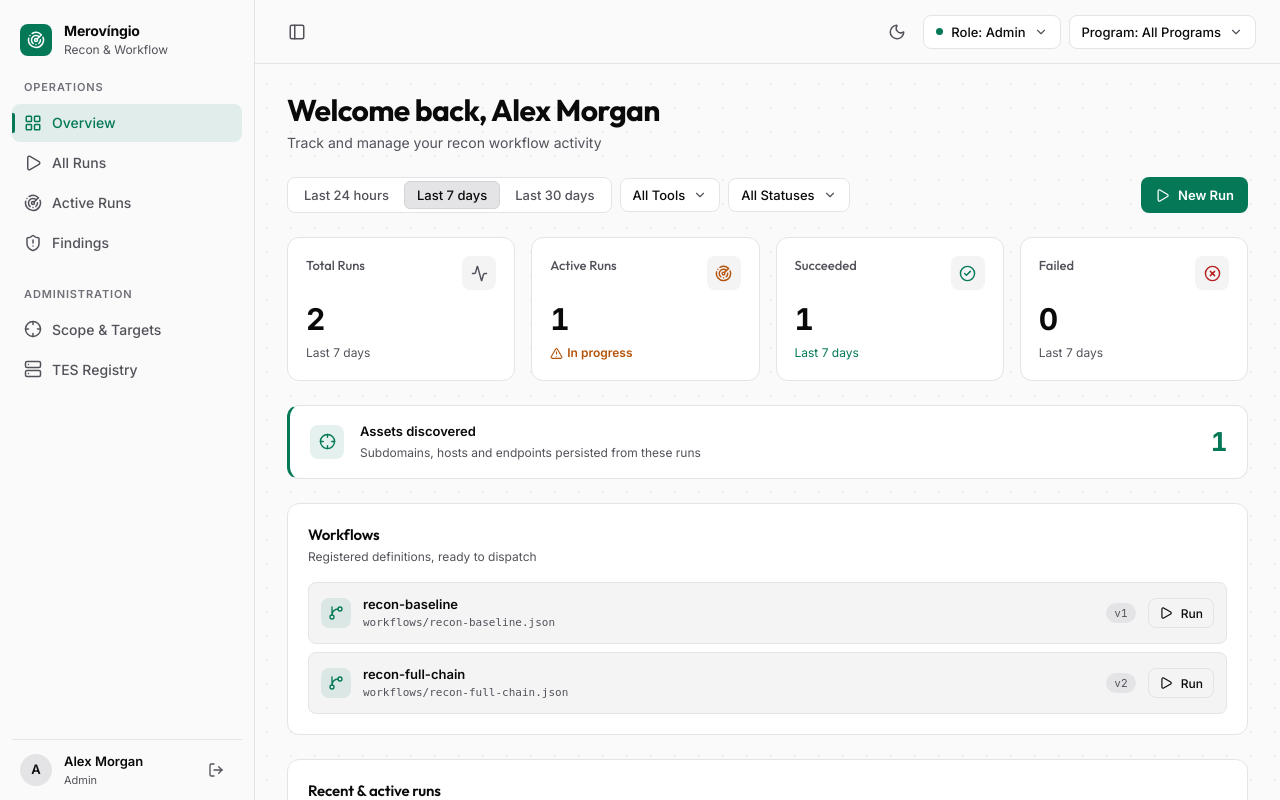
Test: authentication gate › signs out back to the login screen
The image size is (1280, 800).
Expected: the navigation bar named "main navigation" is shown, [0,0,255,799]
Click the button named "log out": coordinates (216, 770) [198,752,234,788]
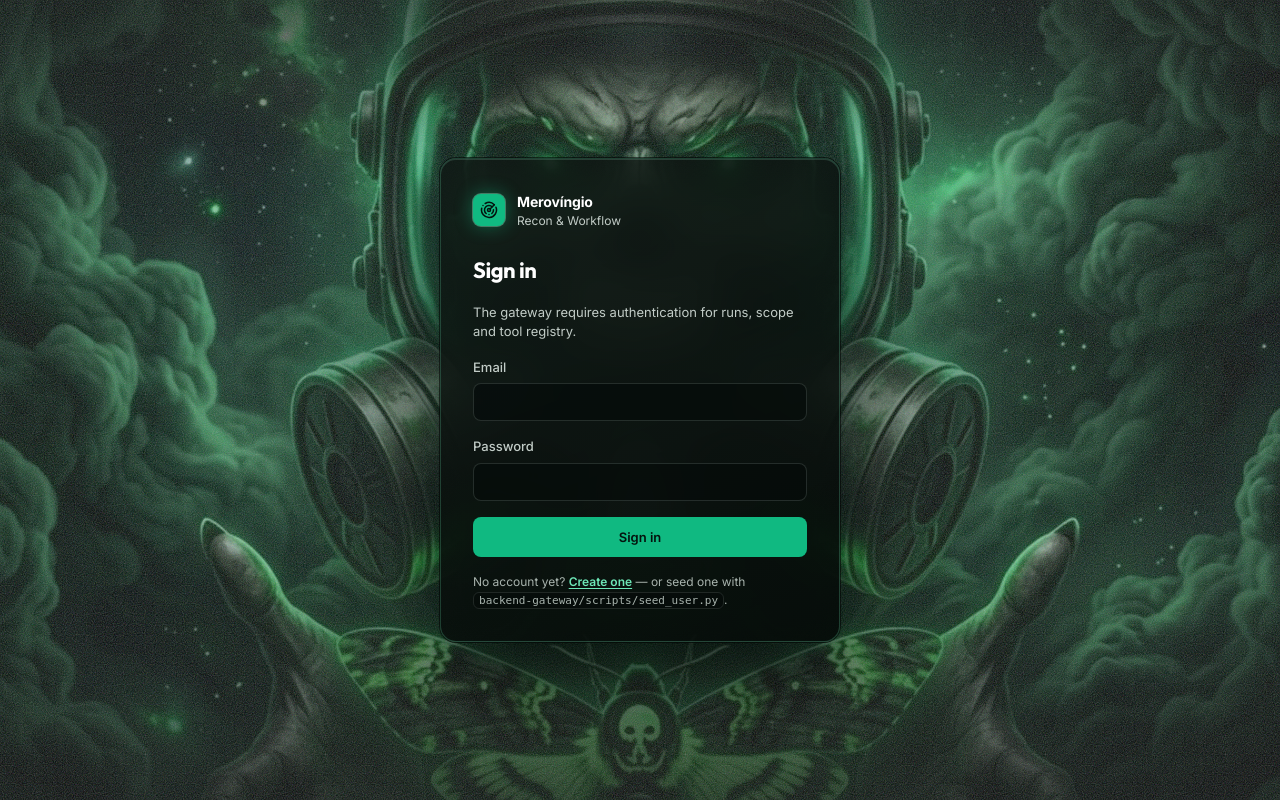
Result: the heading "Sign in" is shown at [473,256,536,284]
